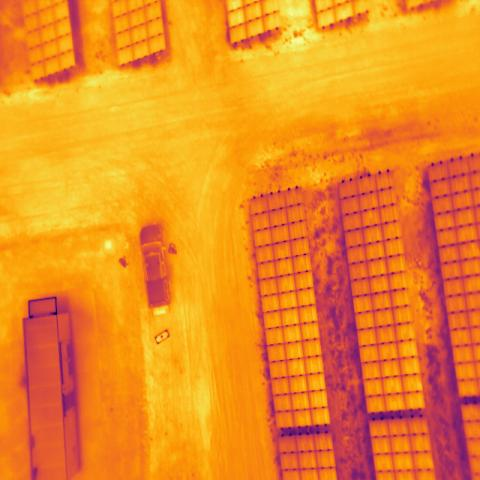fault: (224, 0, 246, 29)
